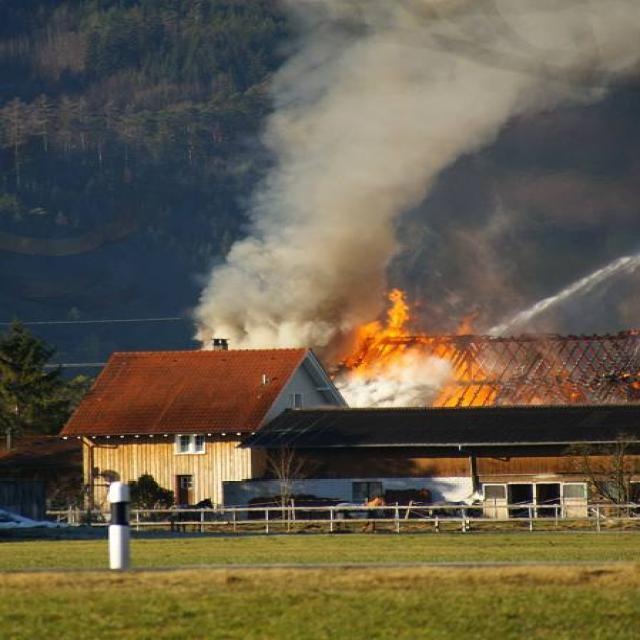Fire: (336, 284, 526, 412)
Smoke: (291, 0, 640, 111), (248, 114, 420, 294), (210, 270, 348, 350)
